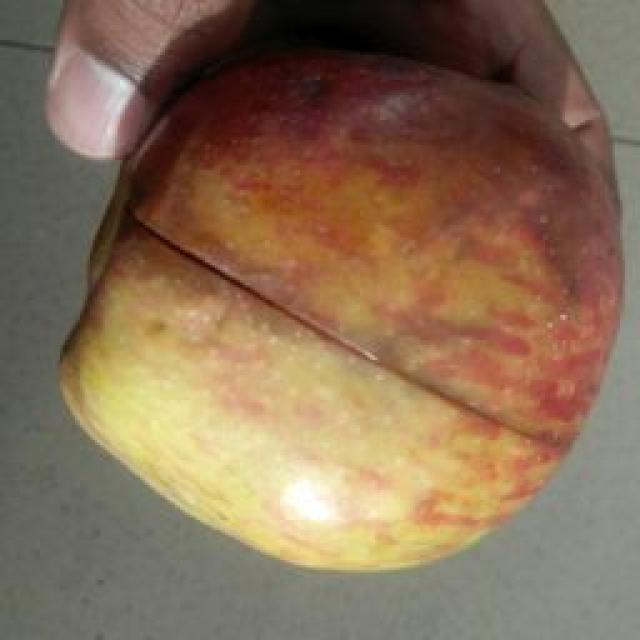Bad_Apple: (62, 51, 621, 569)
